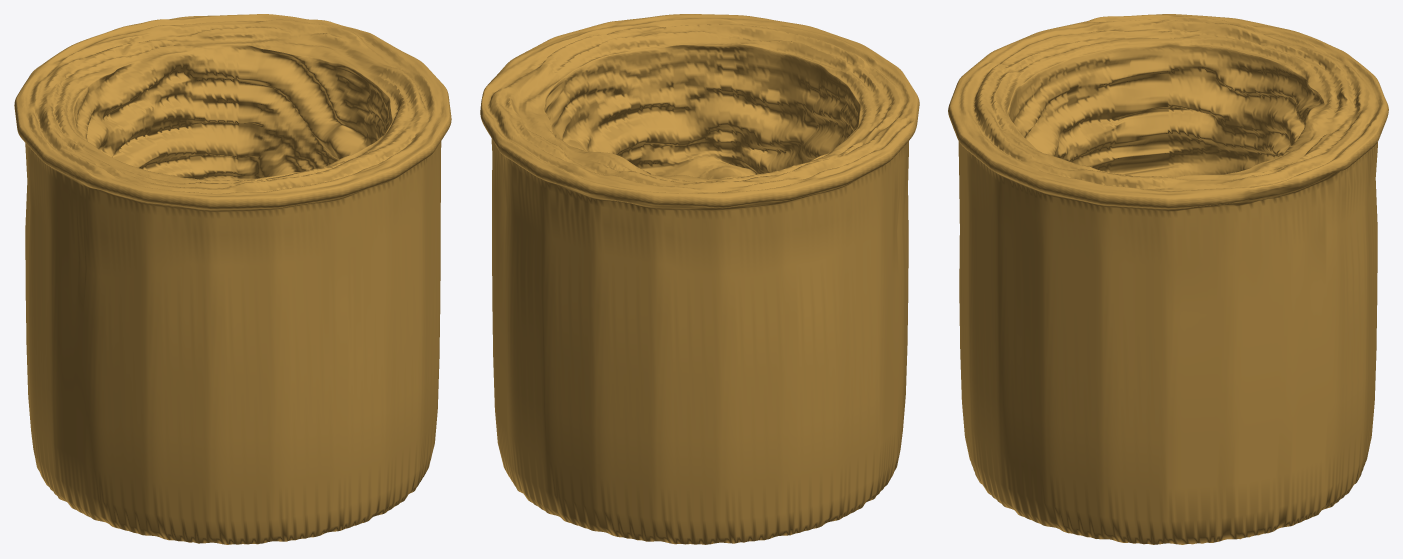
3 views of the same model, side by side, from view 1: azimuth 30°, elevation 25°; view 2: azimuth 150°, elevation 25°; view 3: azimuth 270°, elevation 25° (orthographic).
Parts seen in each view (by area): view 1: Ice_Creem_01; view 2: Ice_Creem_01; view 3: Ice_Creem_01.
Boxes of the visible parts, bbox=[...] form: Ice_Creem_01: bbox=[14, 14, 451, 544]; Ice_Creem_01: bbox=[480, 14, 919, 544]; Ice_Creem_01: bbox=[948, 14, 1388, 544].
Bounding box in the file's own units: 1.22 × 1.13 × 1.22.
